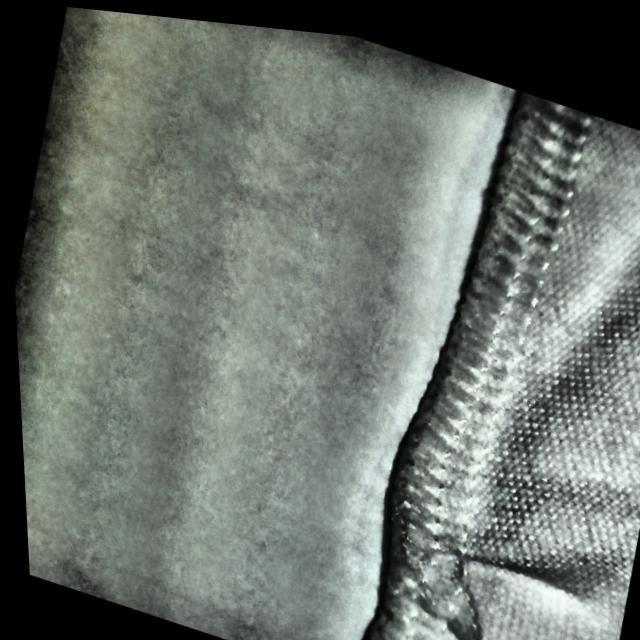seam: (336, 468, 590, 640)
